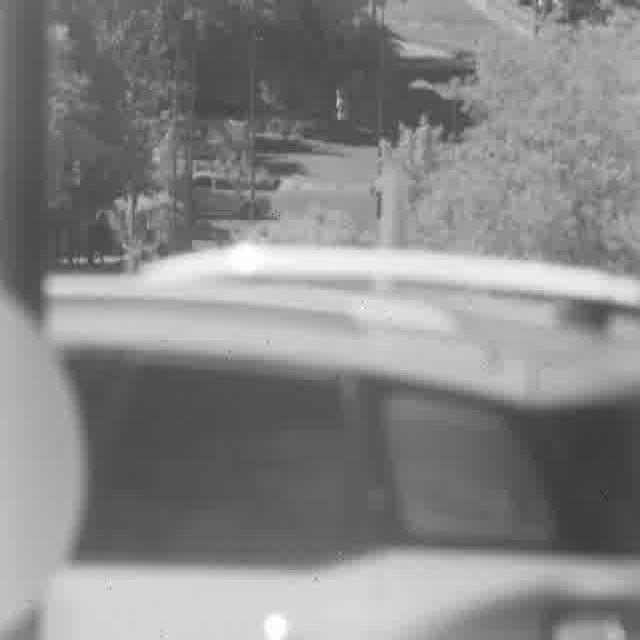Car: (43, 243, 640, 638)
